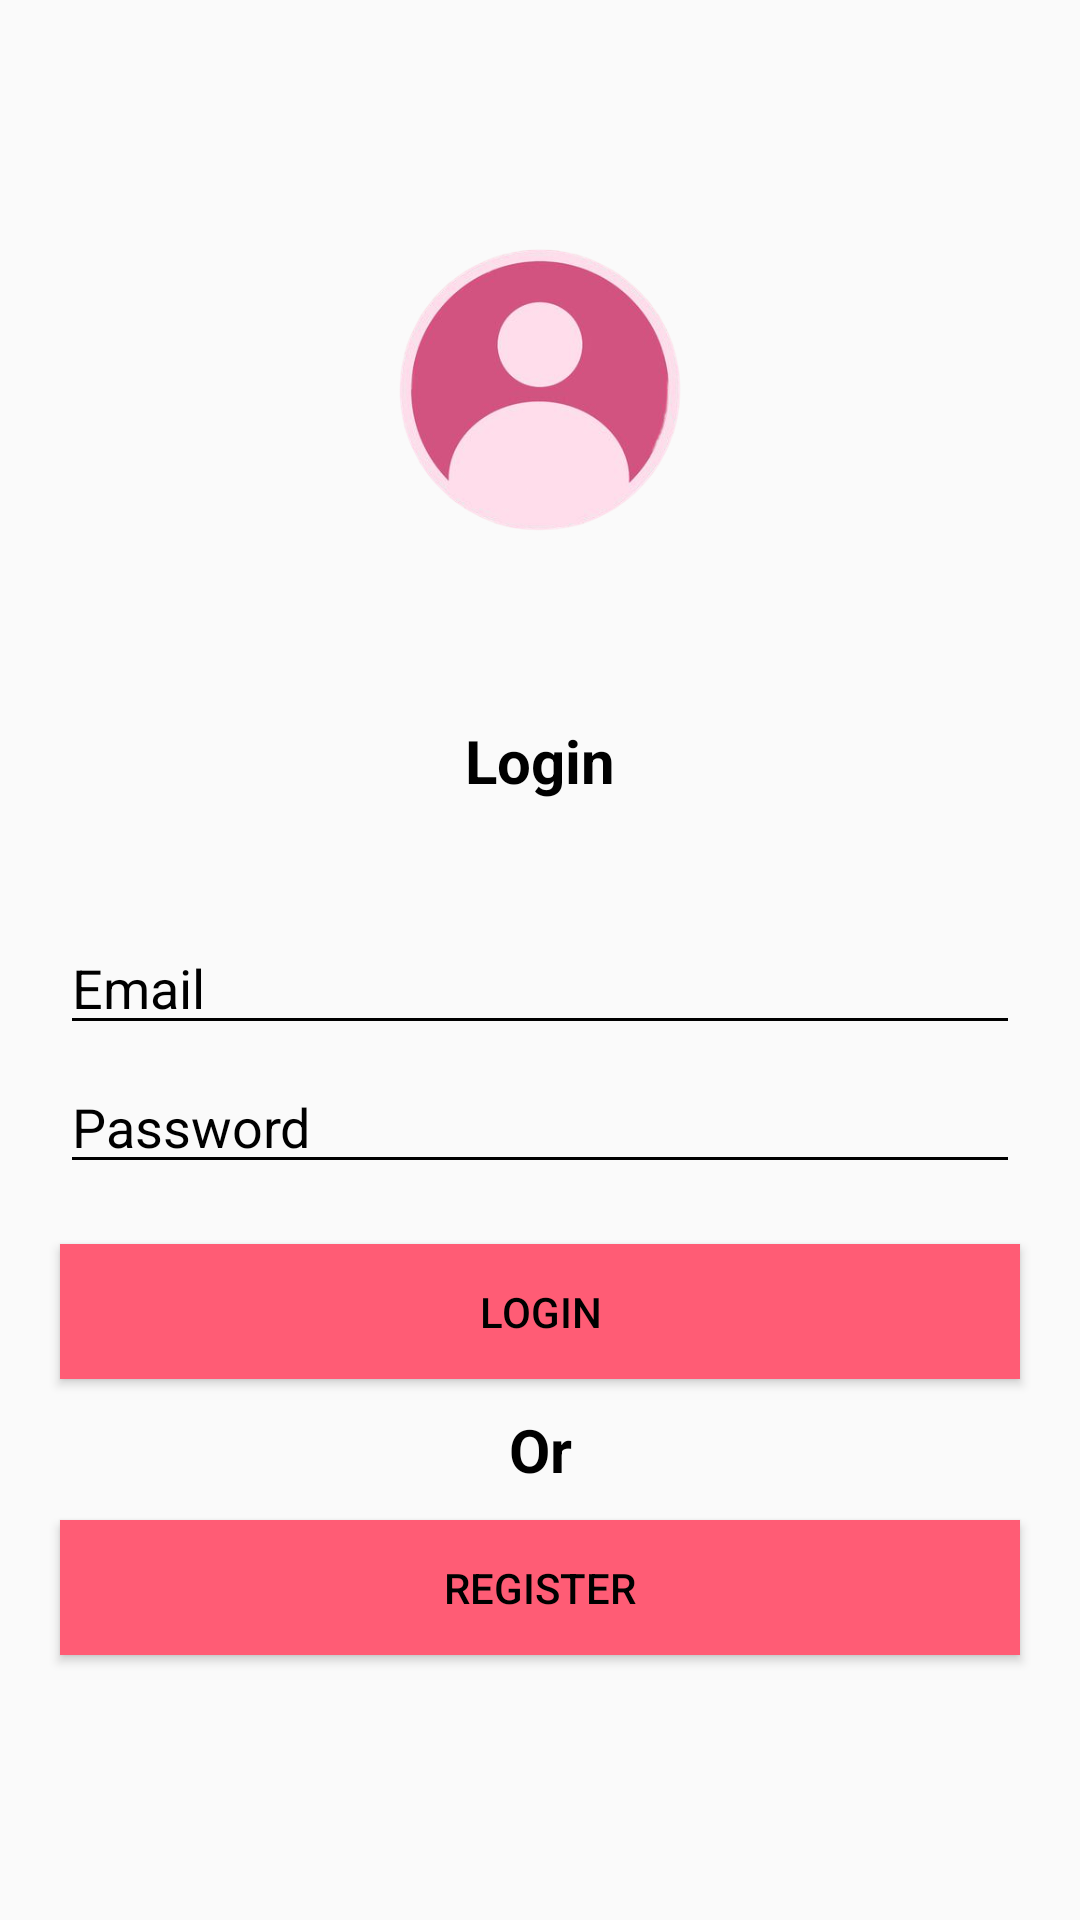

Screen size 1080×1920. Icon name, then its center in pixels as point (x, y):
user: point (539, 389)
